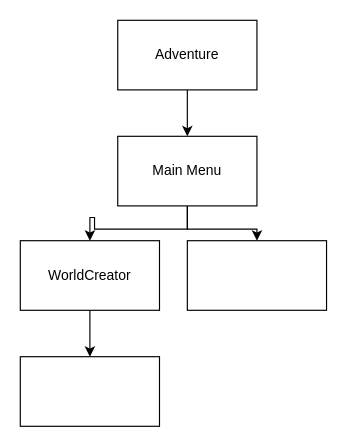
The diagram is 347 pixels wide and 447 high, and some of its shapes have lost their labels. Here are the shapes that lost their labels. From the top down, the box of each, then its label:
(186, 240, 327, 310): WelcomeMessage
(19, 356, 160, 426): Rooms
